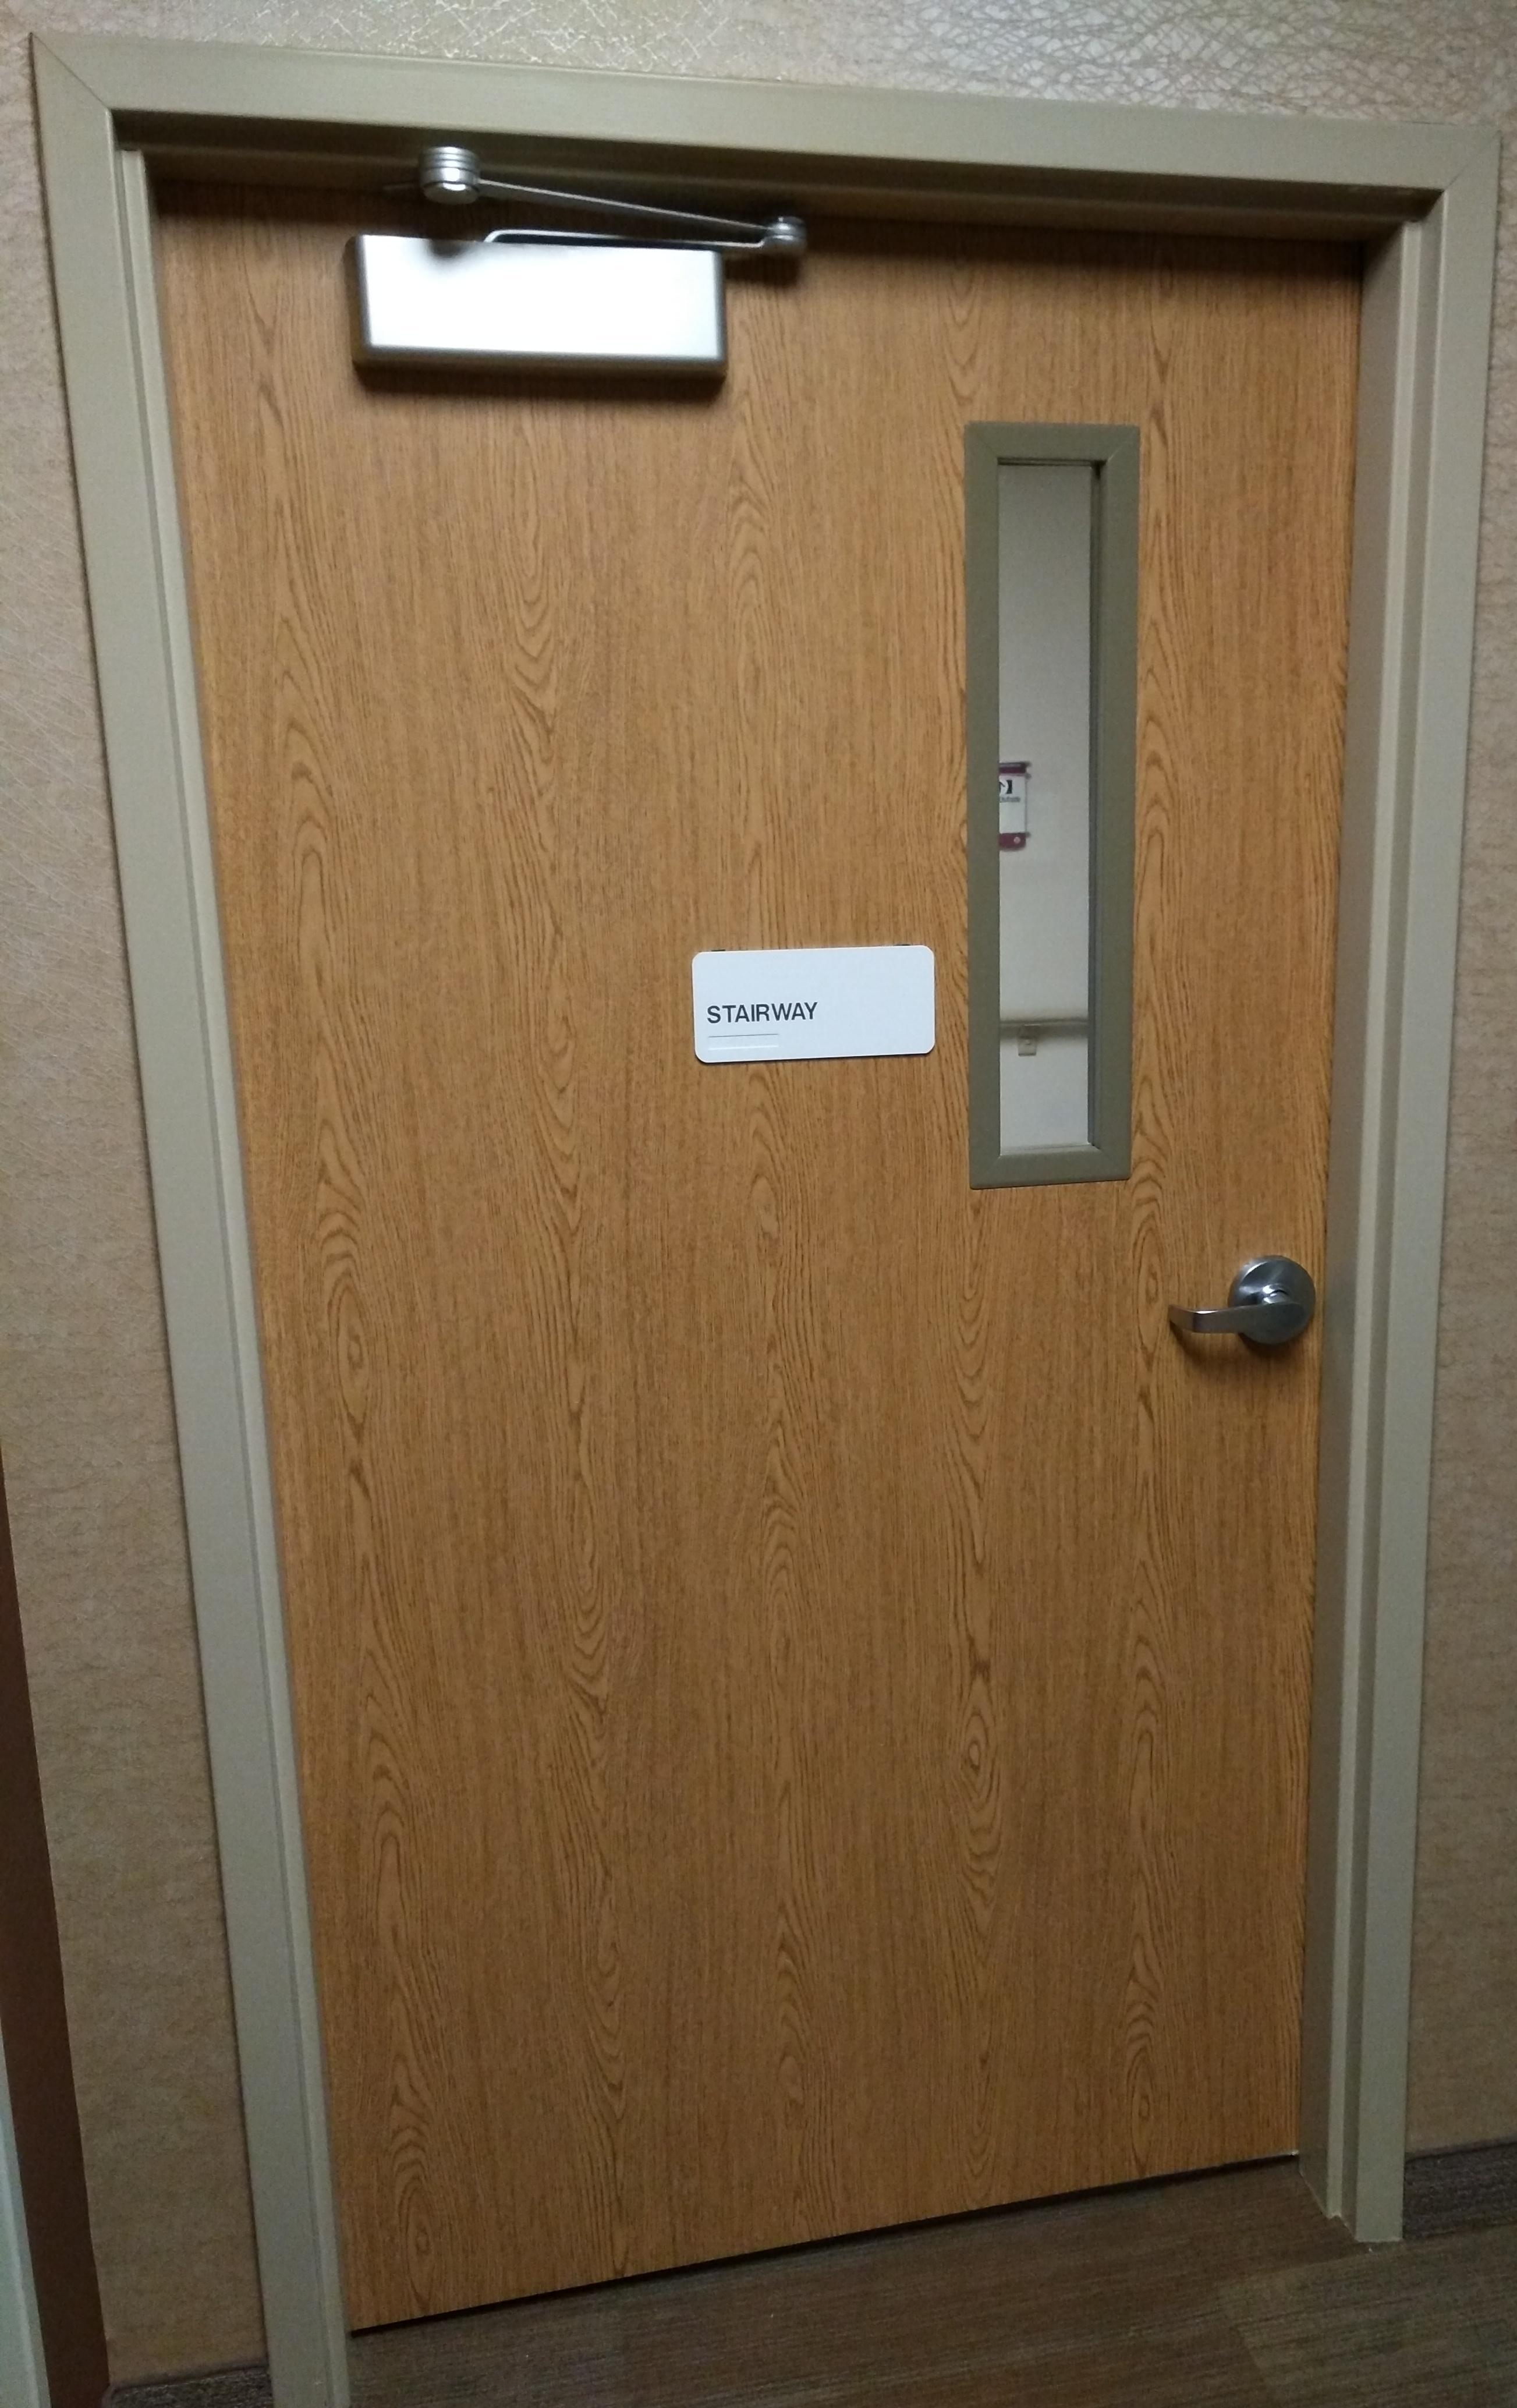door: (171, 128, 1445, 2308)
